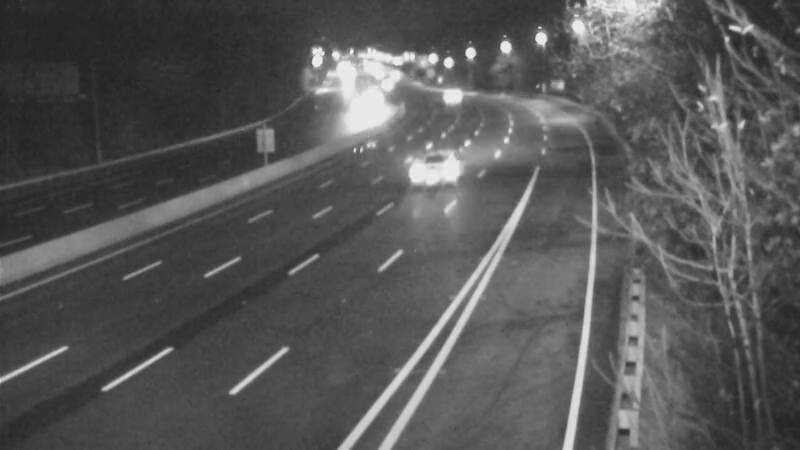vehicle: (384, 137, 464, 217), (422, 71, 472, 121), (337, 85, 387, 135)
